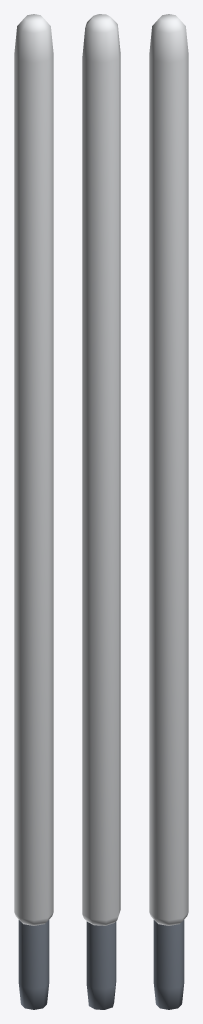
Rendered from heating_equipment_thermometer.glb.
The picture shows the model from 3 angles, left to right: view 1: azimuth 90°, elevation 25°; view 2: azimuth 150°, elevation 25°; view 3: azimuth 270°, elevation 25°; orthographic projection.
Visible parts, largest first — view 1: heating_equipment_thermometer; view 2: heating_equipment_thermometer; view 3: heating_equipment_thermometer.
Part boxes in pixels (x1,y1,x2,y2): heating_equipment_thermometer: [14, 14, 53, 1009]; heating_equipment_thermometer: [82, 14, 120, 1009]; heating_equipment_thermometer: [149, 14, 188, 1009].
Size of the model in its own units: 0.7885 by 21.8 by 0.7885.
2 materials, 2 textured.
